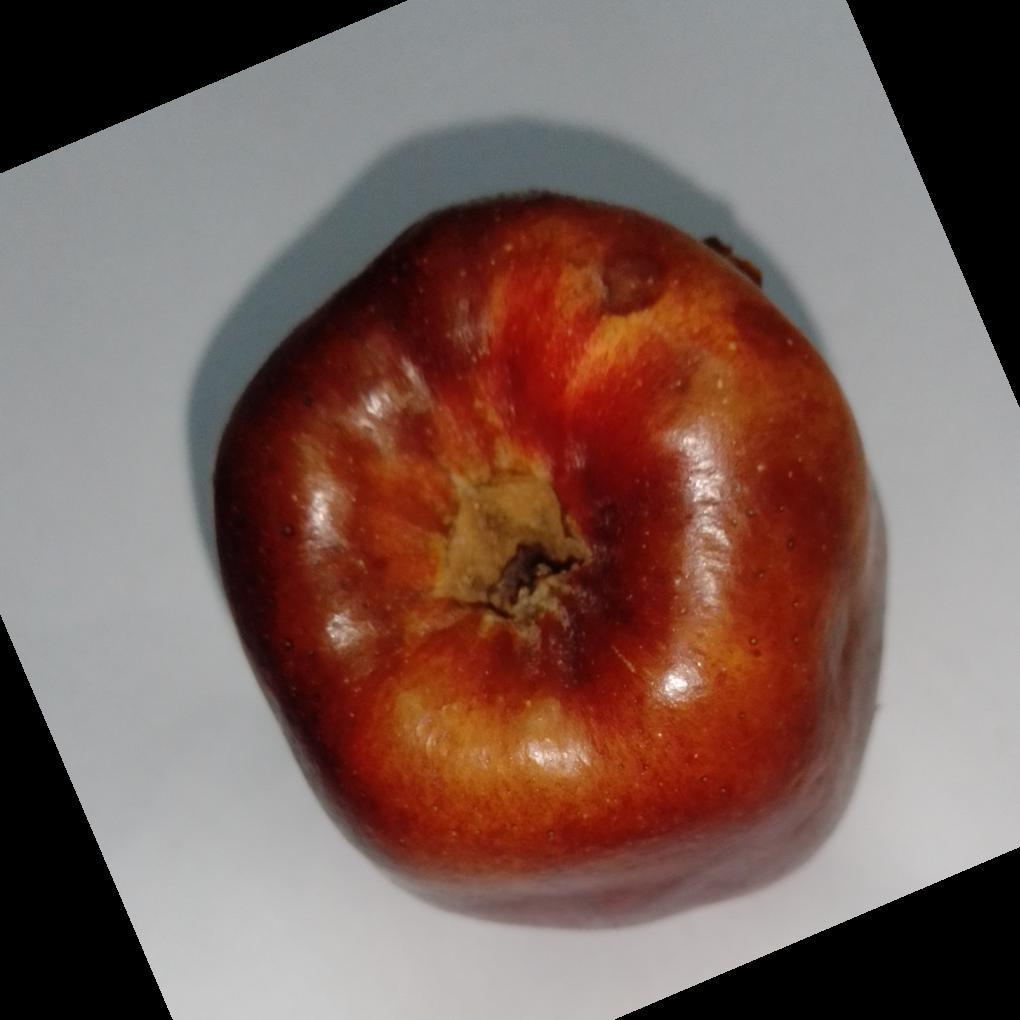FreshOrange: (208, 191, 887, 932)
